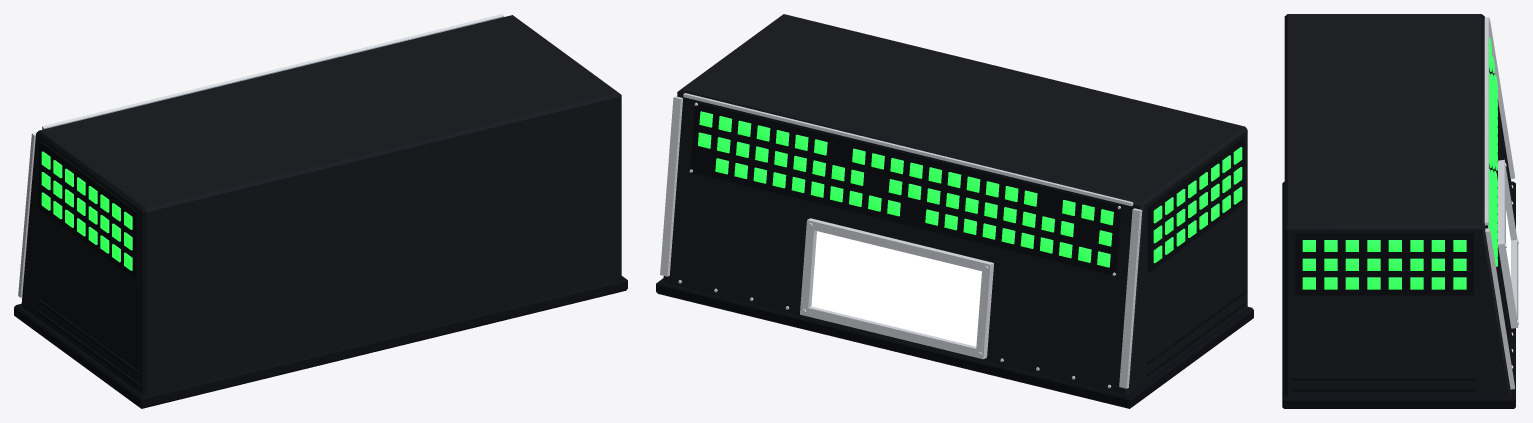
File: deck_led_box.glb
3 renders of one model, left to right at view 1: azimuth 30°, elevation 25°; view 2: azimuth 150°, elevation 25°; view 3: azimuth 270°, elevation 25°, orthographic. The views are drawn at different scales.
Visible parts, largest first — view 1: deck_led_box_deco_body, deck_led_box_deco_trim, deck_led_box_deco_led, deck_led_box_chrome; view 2: deck_led_box_deco_body, deck_led_box_deco_trim, deck_led_box_deco_led, deck_led_box_acrylic_sign, deck_led_box_chrome; view 3: deck_led_box_deco_body, deck_led_box_deco_trim, deck_led_box_deco_led, deck_led_box_chrome.
Part boxes in pixels (bbox=[...]): deck_led_box_deco_body: bbox=[21, 15, 621, 395]; deck_led_box_deco_trim: bbox=[14, 141, 627, 408]; deck_led_box_deco_led: bbox=[41, 151, 132, 270]; deck_led_box_chrome: bbox=[18, 14, 503, 297]; deck_led_box_deco_body: bbox=[663, 14, 1247, 395]; deck_led_box_deco_trim: bbox=[656, 102, 1253, 408]; deck_led_box_deco_led: bbox=[698, 111, 1242, 267]; deck_led_box_acrylic_sign: bbox=[811, 231, 981, 346]; deck_led_box_chrome: bbox=[660, 93, 1142, 388]; deck_led_box_deco_body: bbox=[1284, 14, 1511, 396]; deck_led_box_deco_trim: bbox=[1282, 67, 1515, 408]; deck_led_box_deco_led: bbox=[1302, 37, 1497, 289]; deck_led_box_chrome: bbox=[1484, 17, 1518, 389].
Size of the model in its own units: 2.14 by 0.8296 by 0.9819.
